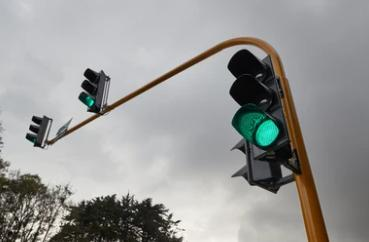green_light: (228, 49, 290, 159), (79, 69, 110, 113)
